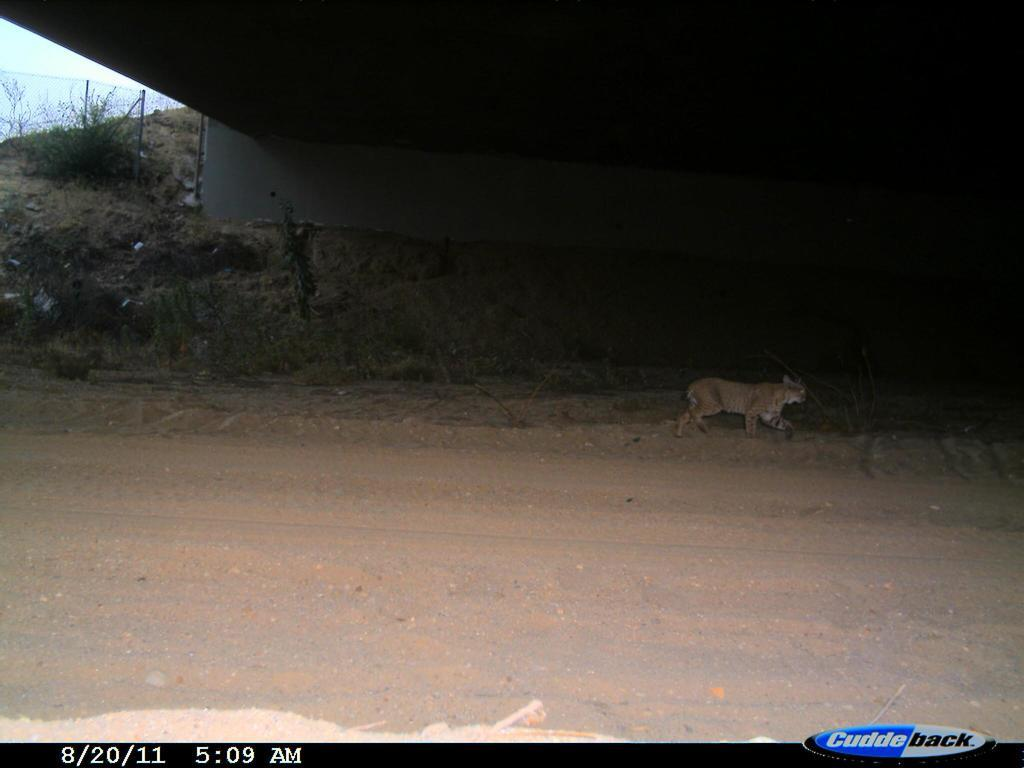bobcat: (675, 373, 824, 454)
